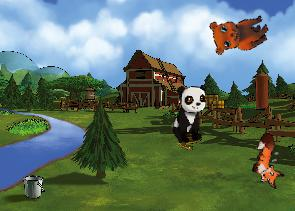bear: (204, 1, 273, 62)
fox: (246, 131, 294, 190)
panda: (171, 83, 208, 145)
